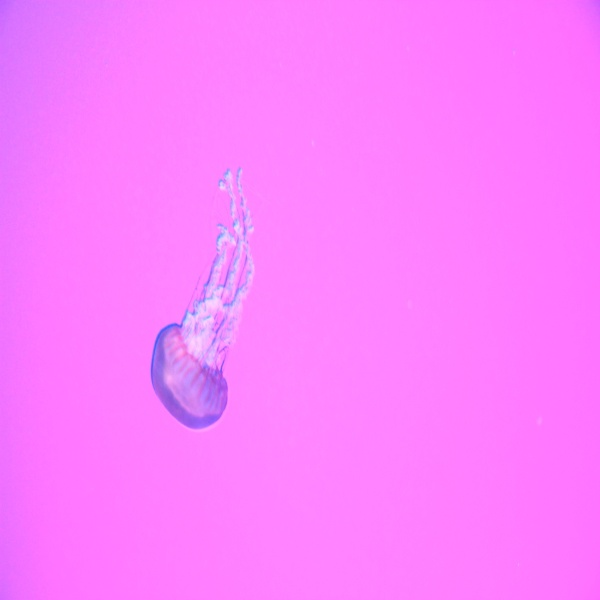Jellyfish: (149, 167, 255, 432)
